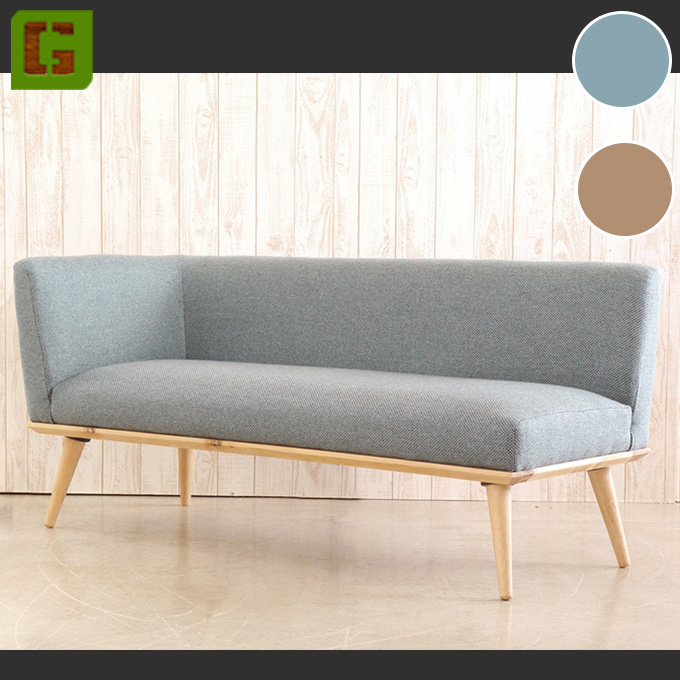chairs: (12, 253, 660, 604)
